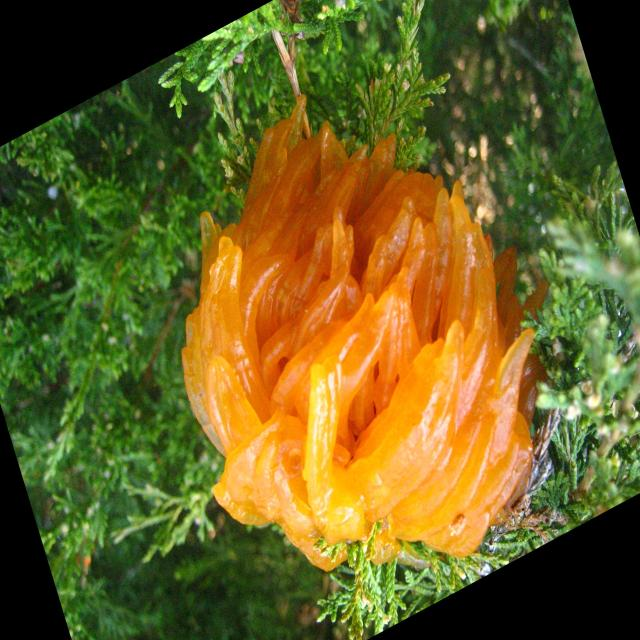Gymnosporangium_Rusts: (180, 93, 545, 574)
